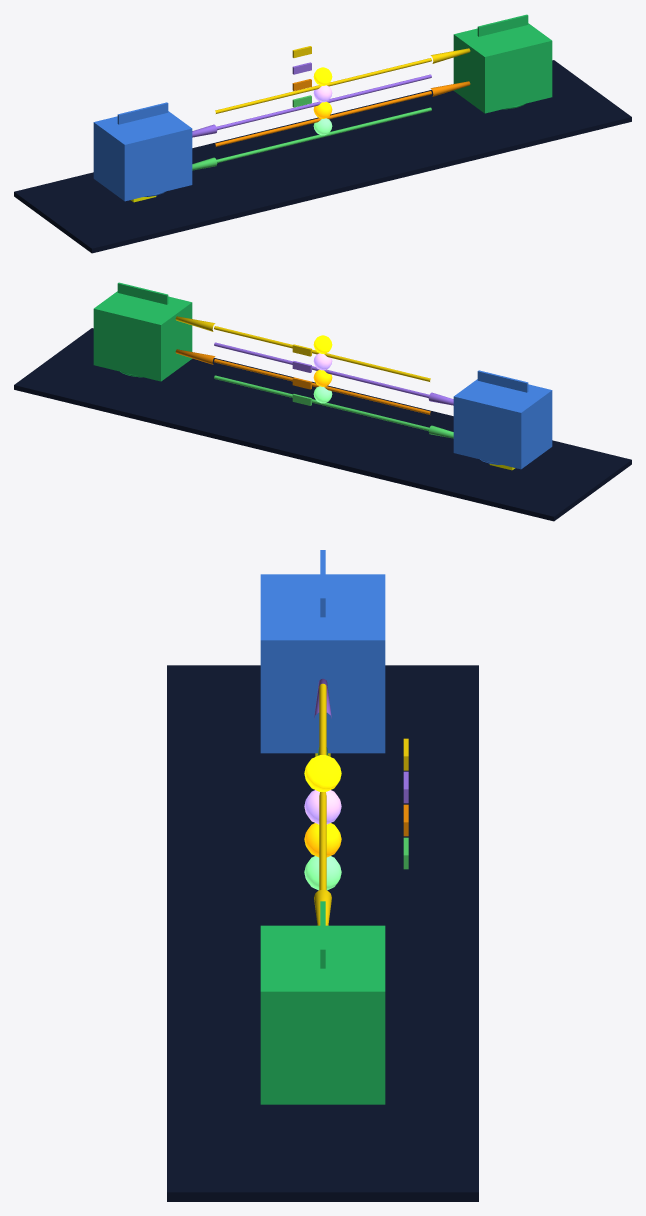
Rendered from dhcp_dora.glb.
The picture shows the model from 3 angles, top to bottom: view 1: azimuth 30°, elevation 25°; view 2: azimuth 150°, elevation 25°; view 3: azimuth 270°, elevation 25°; orthographic projection. The views are drawn at different scales.
Parts seen in each view (by area): view 1: Platform, Client, DHCP_Server, DISCOVER, REQUEST, ACK, OFFER, Client_Label, Server_Label; view 2: Platform, Client, DHCP_Server, DISCOVER, REQUEST, ACK, OFFER, Client_Label, Server_Label; view 3: Platform, DHCP_Server, Client, DISCOVER, DISCOVER_Packet.
Boxes of the visible parts, bbox=[...] form: Platform: bbox=[14, 60, 631, 253]; Client: bbox=[93, 111, 192, 201]; DHCP_Server: bbox=[453, 23, 552, 113]; DISCOVER: bbox=[215, 48, 470, 113]; REQUEST: bbox=[215, 81, 470, 146]; ACK: bbox=[192, 107, 431, 170]; OFFER: bbox=[192, 74, 431, 137]; Client_Label: bbox=[117, 102, 168, 124]; Server_Label: bbox=[477, 14, 528, 36]; Platform: bbox=[14, 328, 631, 521]; Client: bbox=[453, 379, 552, 469]; DHCP_Server: bbox=[93, 291, 192, 381]; DISCOVER: bbox=[175, 316, 430, 381]; REQUEST: bbox=[175, 349, 430, 414]; ACK: bbox=[214, 375, 453, 438]; OFFER: bbox=[214, 342, 453, 405]; Client_Label: bbox=[477, 370, 528, 392]; Server_Label: bbox=[117, 282, 168, 304]; Platform: bbox=[167, 665, 478, 1201]; DHCP_Server: bbox=[260, 925, 385, 1104]; Client: bbox=[260, 574, 385, 753]; DISCOVER: bbox=[314, 683, 331, 925]; DISCOVER_Packet: bbox=[304, 755, 341, 791].
Size of the model in its own units: 12 by 2.03 by 3.
